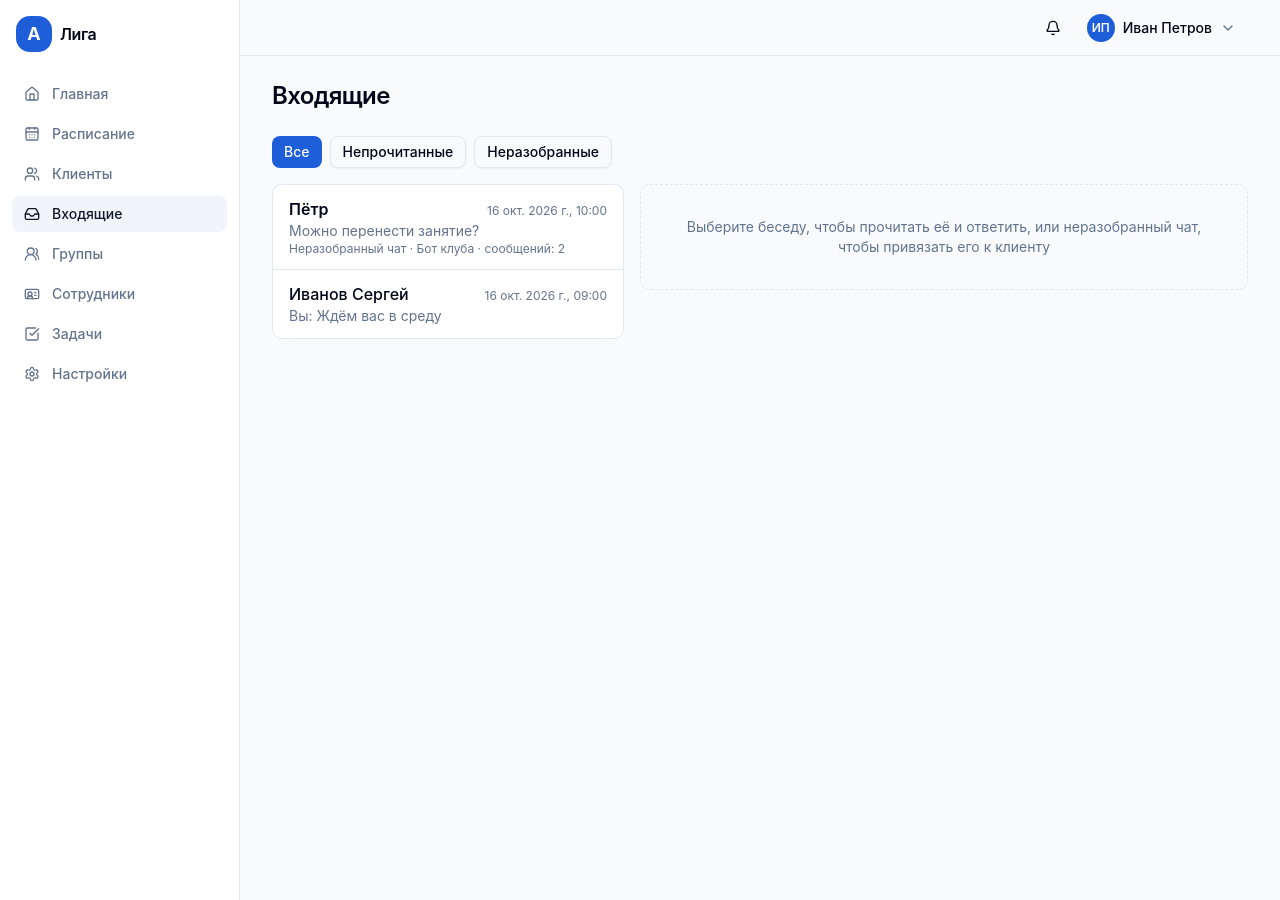
it: входящие › открытая беседа отмечается прочитанной до последнего показанного сообщения
Click the button "Иванов Сергей" at (349, 294), box [273,270,623,338]
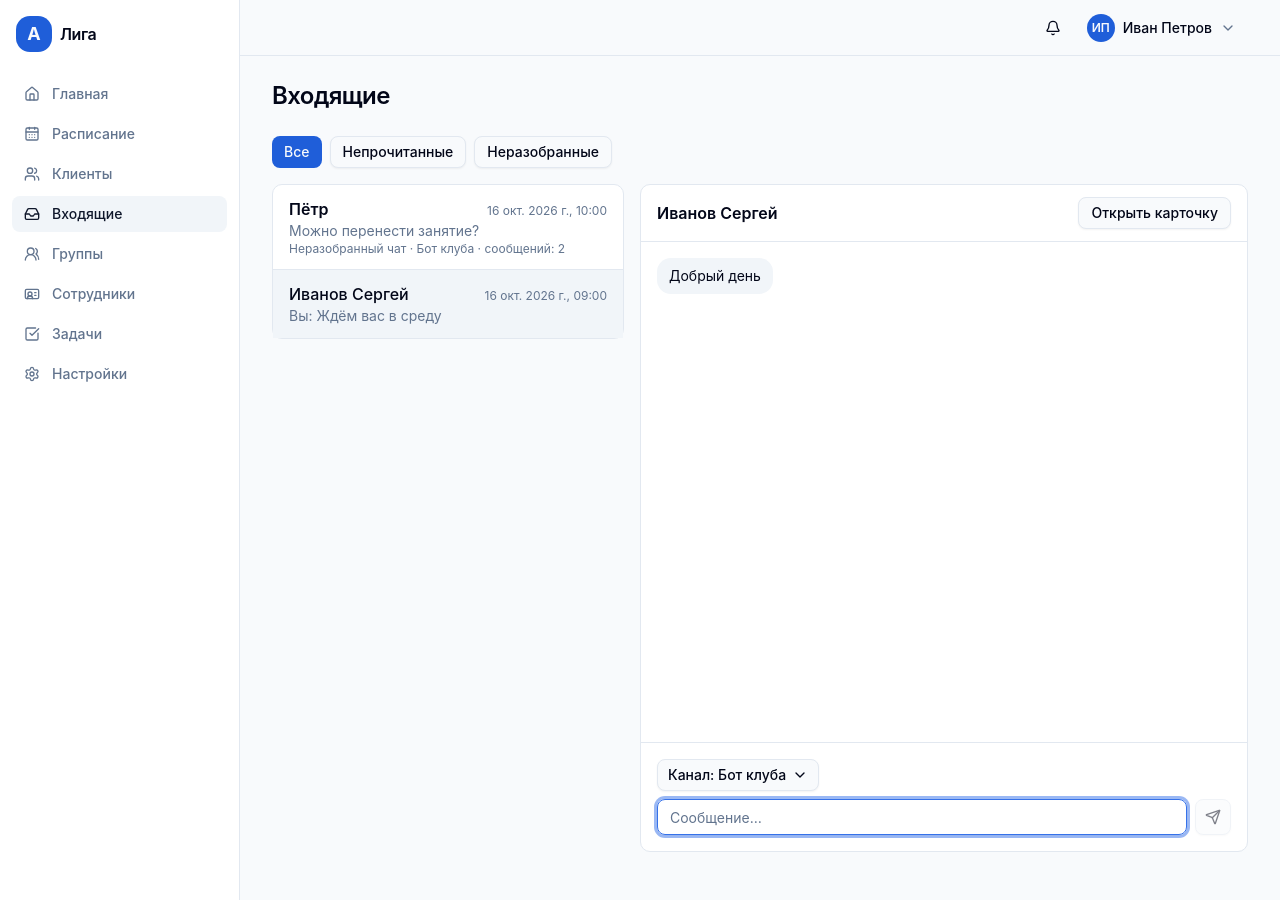
Result: the text "Добрый день" is shown at [669,266,761,286]
